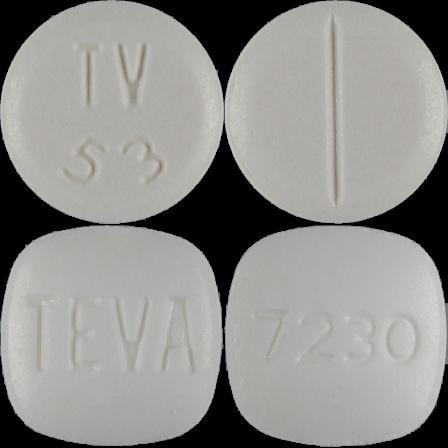0615-7714: (0, 0, 224, 224)
